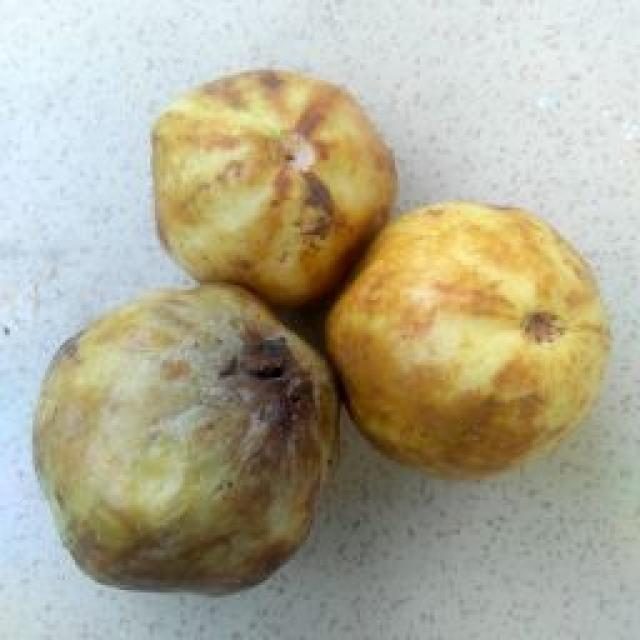Bad_Guava: (34, 284, 339, 592), (152, 70, 396, 307)
